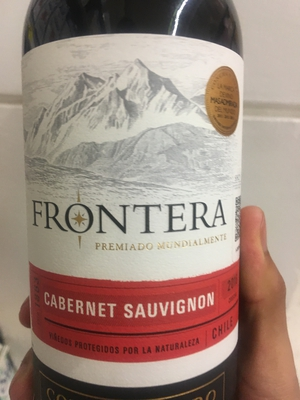frontera cabernet sauvignon: (21, 8, 249, 400)
